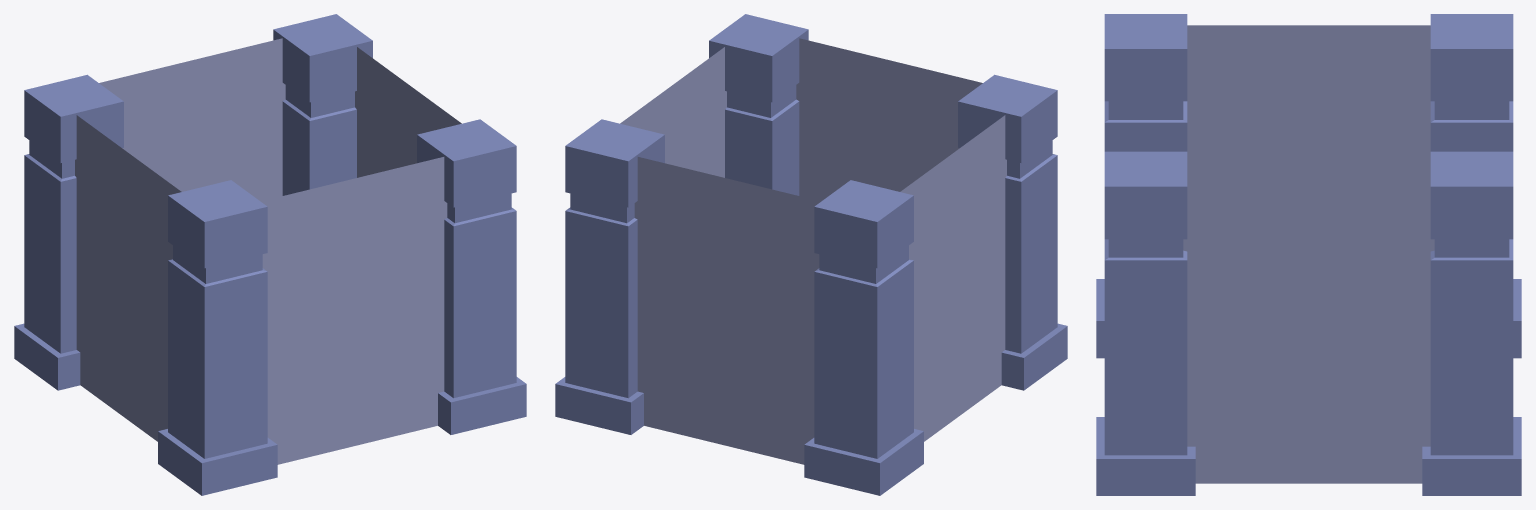
Rendered from bridge_1_wall.fbx.
3 renders of one model, left to right at view 1: azimuth 30°, elevation 25°; view 2: azimuth 150°, elevation 25°; view 3: azimuth 270°, elevation 25°, orthographic. The views are drawn at different scales.
Visible parts, largest first — view 1: bridge_1_wall; view 2: bridge_1_wall; view 3: bridge_1_wall.
Part boxes in pixels (<box>): bridge_1_wall: <box>14,14,526,495</box>; bridge_1_wall: <box>555,14,1067,495</box>; bridge_1_wall: <box>1096,14,1521,495</box>.
Size of the model in its own units: 10.44 by 8.28 by 10.44.
